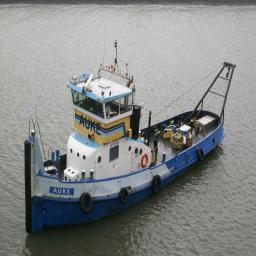tugboat: (24, 61, 238, 239)
